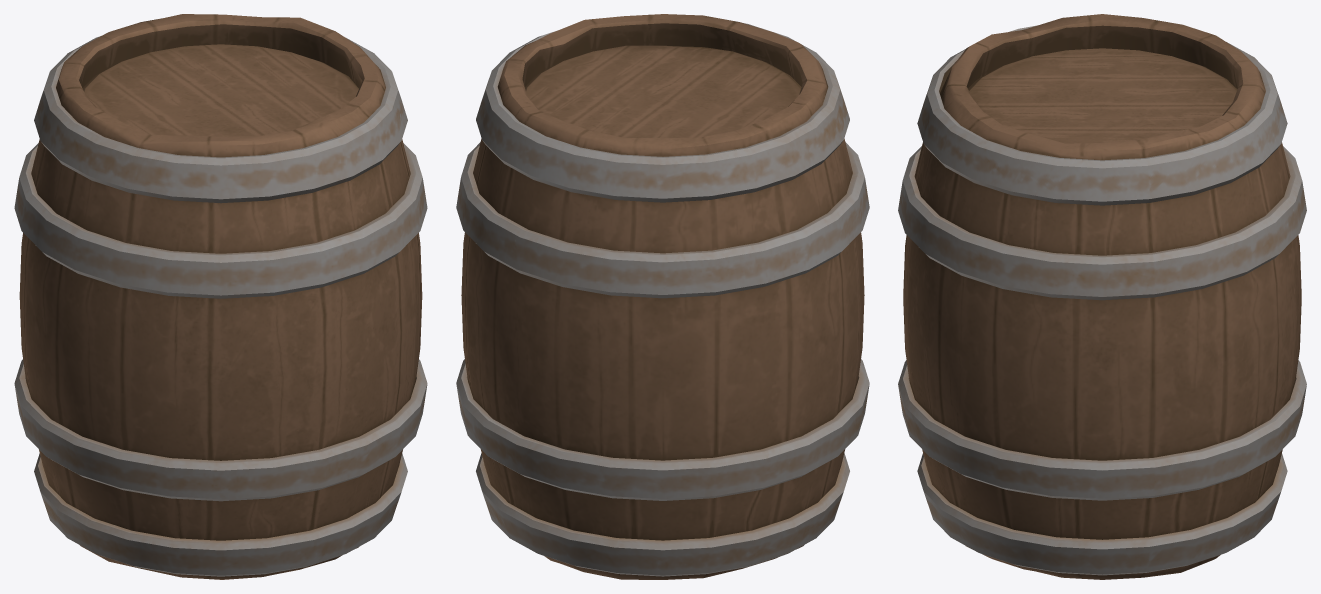
The model's file is barrel.fbx.
3 views of the same model, side by side, from view 1: azimuth 30°, elevation 25°; view 2: azimuth 150°, elevation 25°; view 3: azimuth 270°, elevation 25° (orthographic).
Visible parts, largest first — view 1: lp.001; view 2: lp.001; view 3: lp.001.
Part boxes in pixels (x1,y1,x2,y2): lp.001: [14, 14, 427, 579]; lp.001: [456, 14, 869, 579]; lp.001: [898, 14, 1306, 579].
Size of the model in its own units: 1.22 by 1.22 by 1.43.
